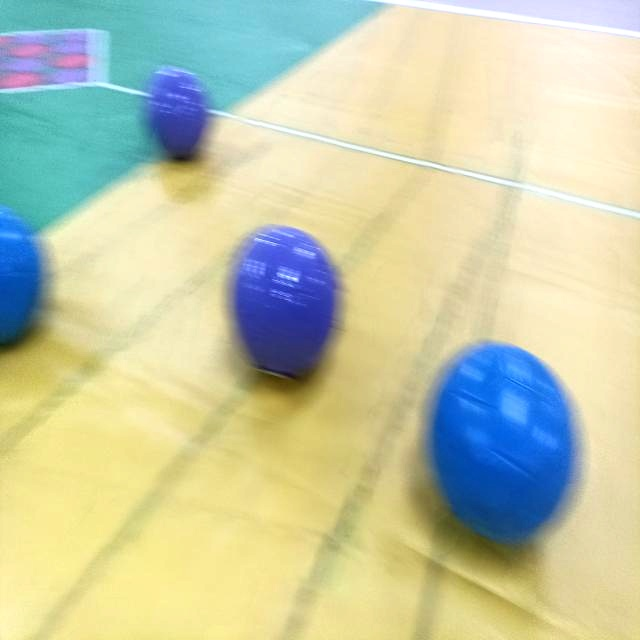blue_ball: (421, 334, 583, 555), (0, 190, 48, 362)
purple_ball: (224, 216, 343, 394), (136, 61, 221, 178)
